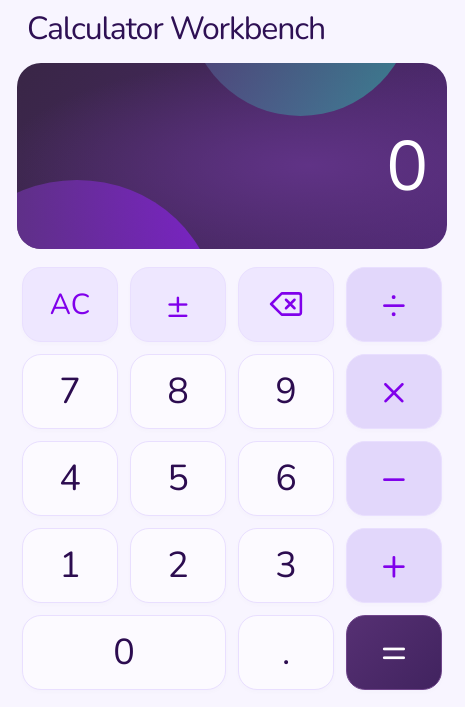
Test case: calculator keypad › submits a sign-only second operand as entered negative zero
Step 1. Click the button "1" → (70, 565), box [22,528,118,603]
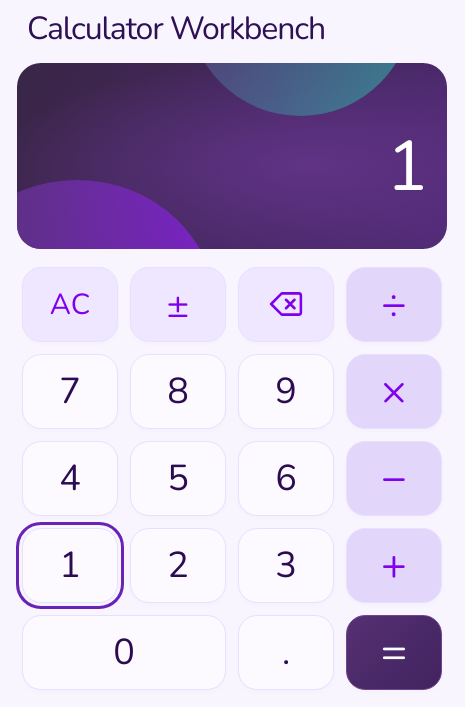
Step 2. Click the button named "Subtract" → (394, 478), box [346,441,442,516]
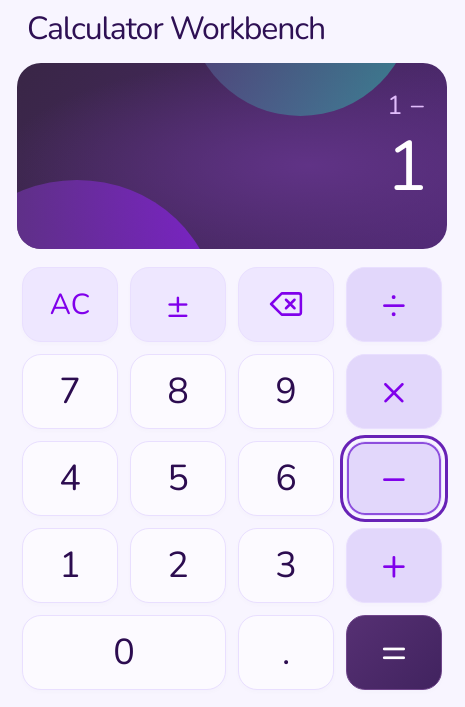
Step 3. Click the button named "Toggle sign" → (178, 304), box [130,267,226,342]
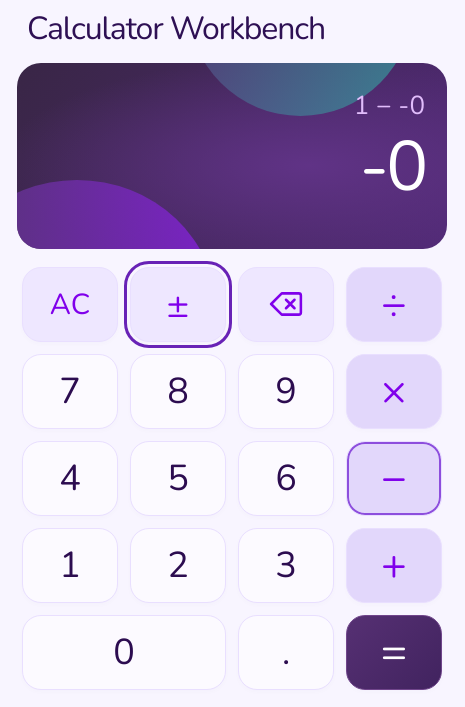
Now the text named "Result" reads "-0", box [360,119,425,215]
Step 4. Click the button named "Equals" → (394, 652), box [346,615,442,690]
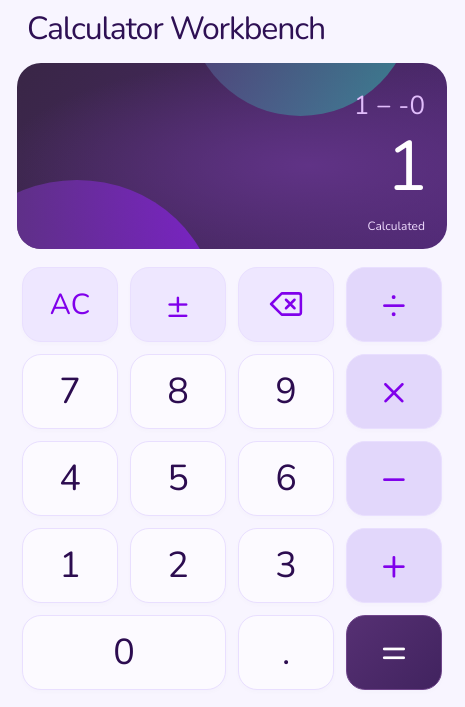
Now the text named "Result" reads "1", box [386,119,425,215]
